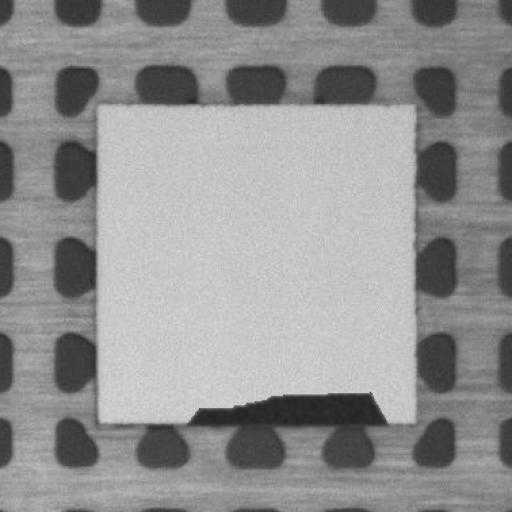DIE_BROKEN: (182, 389, 388, 427)
